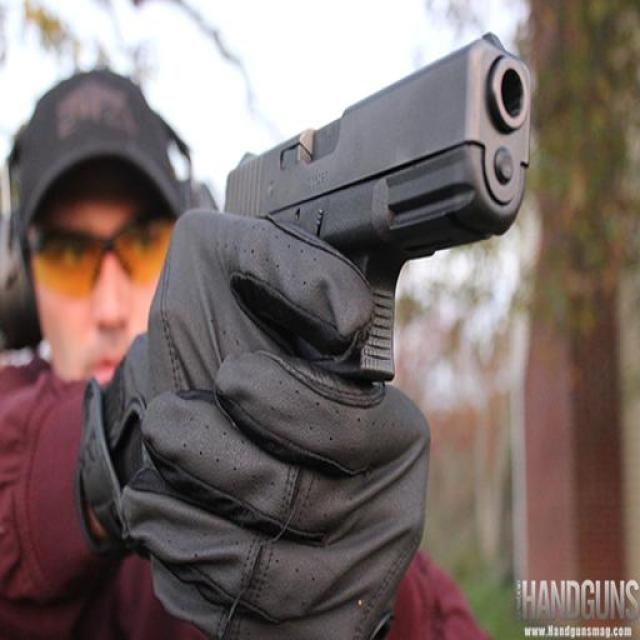pistol: (214, 36, 539, 396)
